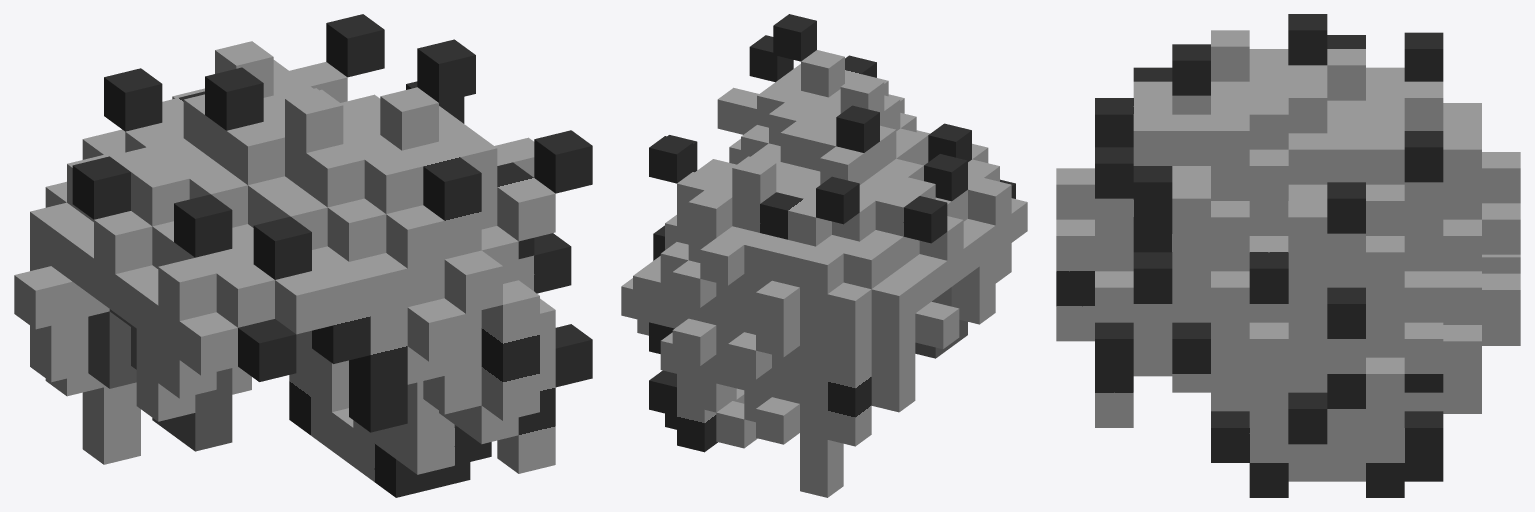
The model's file is wlos8.dae.
3 views of the same model, side by side, from view 1: azimuth 30°, elevation 25°; view 2: azimuth 150°, elevation 25°; view 3: azimuth 270°, elevation 25° (orthographic). The views are drawn at different scales.
Parts seen in each view (by area): view 1: Content; view 2: Content; view 3: Content.
Part boxes in pixels (<box>): Content: <box>14,14,592,497</box>; Content: <box>621,14,1027,497</box>; Content: <box>1056,14,1520,497</box>.
Size of the model in its own units: 11 by 12 by 12.
1 material, 1 textured.
